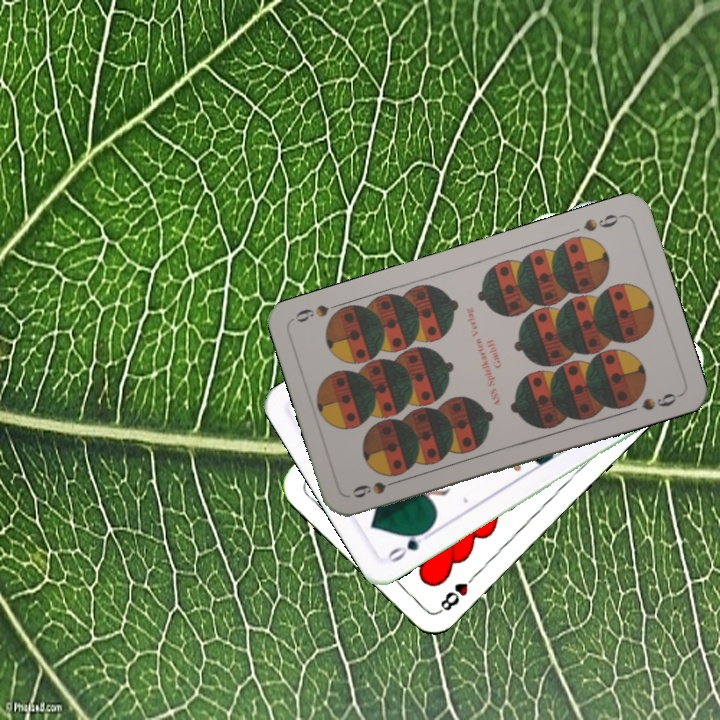GO: (382, 524, 437, 565)
H8: (434, 569, 480, 616)
S9: (348, 475, 405, 501), (579, 210, 626, 234)
